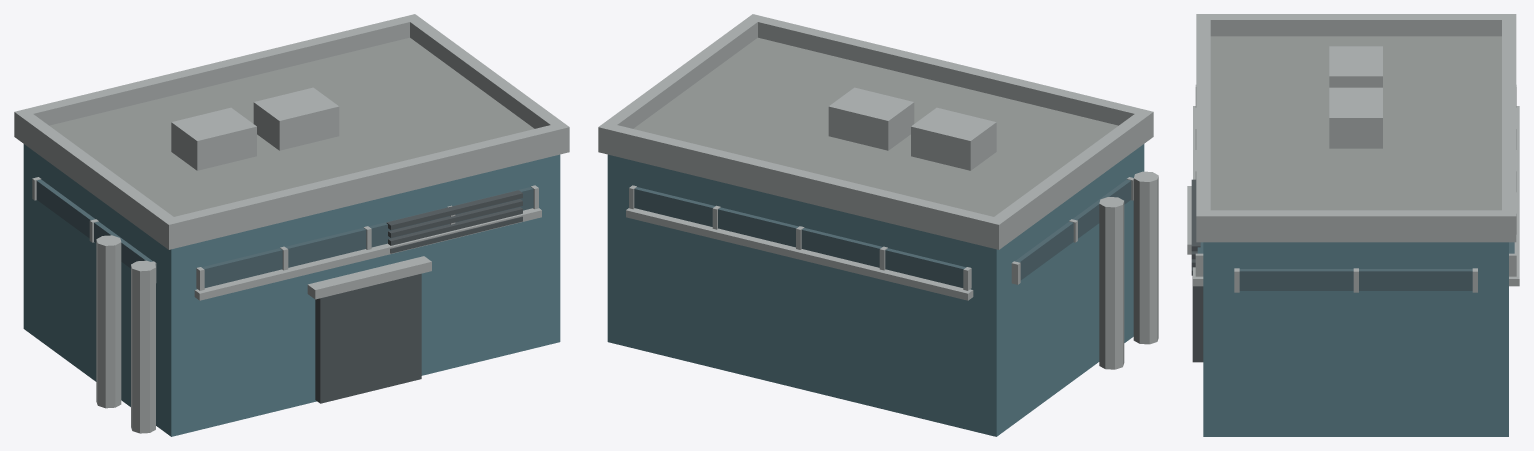
Rendered from integratedtreatment.glb.
3 renders of one model, left to right at view 1: azimuth 30°, elevation 25°; view 2: azimuth 150°, elevation 25°; view 3: azimuth 270°, elevation 25°, orthographic. The views are drawn at different scales.
Parts seen in each view (by area): view 1: integratedtreatment; view 2: integratedtreatment; view 3: integratedtreatment.
Part boxes in pixels (x1,y1,x2,y2): integratedtreatment: [14, 14, 569, 436]; integratedtreatment: [598, 14, 1158, 436]; integratedtreatment: [1187, 14, 1519, 436].
Size of the model in its own units: 2.82 by 1.47 by 1.86.
